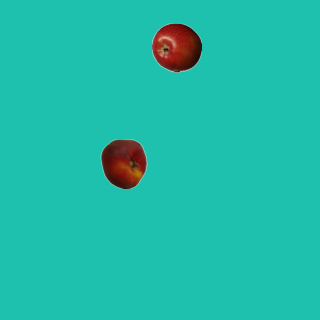Apple Braeburn: (151, 22, 201, 72)
Nectarine Flat: (98, 138, 148, 188)
